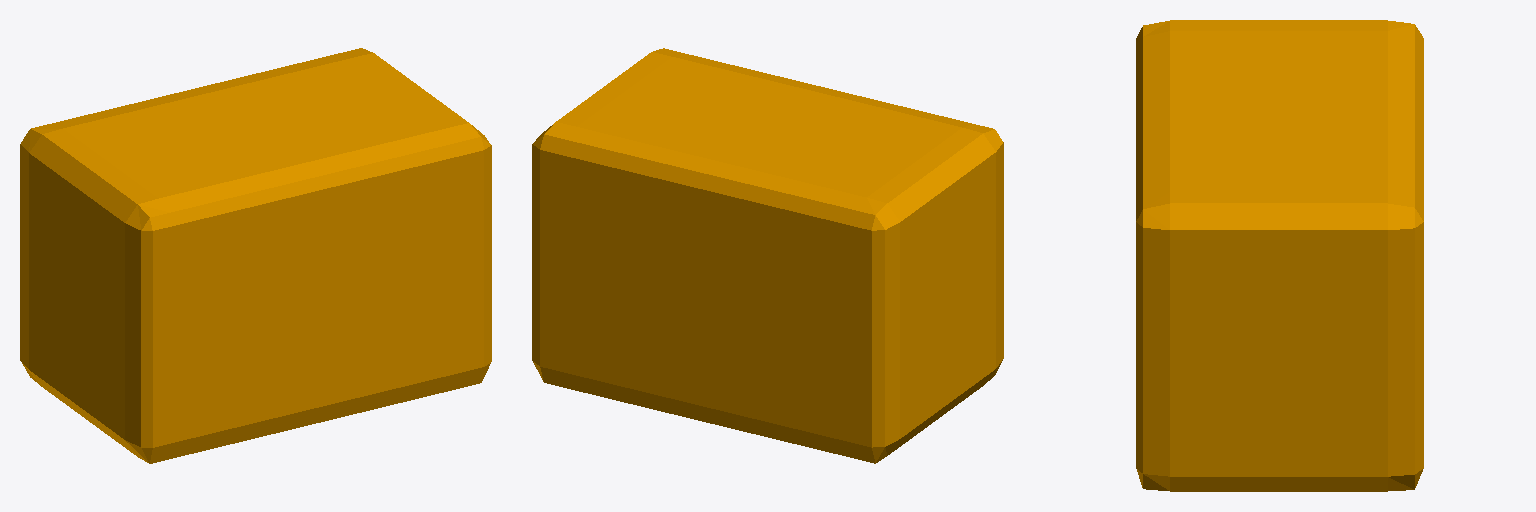
URDF robot description (cylinder_box_40):
<?xml version="1.0" encoding="utf-8"?>  <robot name="cylinder_box_40">   <link name="cylinder_box_40">     <visual>       <geometry>         <mesh filename="../meshes/box/box_40.stl" scale="1 1 1"/>       </geometry>     </visual>     <collision>       <geometry>         <mesh filename="../meshes/box/box_40.stl" scale="1 1 1"/>       </geometry>     </collision>     <inertial>        <origin         xyz="0 0 0"         rpy="0 0 0" />       <mass value="0.2644586331856935"/>       <origin rpy="0 0 0" xyz="0 0 0"/>       <inertia ixx="0.00013451942252191984" ixy="3.294717647509996e-09" ixz="-4.192904745136788e-08" iyy="0.00023675127493442483" iyz="-3.677139065508189e-08" izz="0.00022340349939447177"/>     </inertial>   </link>  </robot>

--- Facts derived from the render (not from the file) ---
The picture shows the robot from 3 angles, left to right: view 1: azimuth 30°, elevation 25°; view 2: azimuth 150°, elevation 25°; view 3: azimuth 270°, elevation 25°; orthographic projection.
Robot: cylinder_box_40 — 1 links, 0 joints (none); root link cylinder_box_40; default pose: all joints at 0.
Links seen in each view (by area): view 1: cylinder_box_40; view 2: cylinder_box_40; view 3: cylinder_box_40.
Link boxes in pixels (x1=…): cylinder_box_40: x1=20, y1=48, x2=491, y2=463; cylinder_box_40: x1=532, y1=48, x2=1003, y2=463; cylinder_box_40: x1=1136, y1=20, x2=1423, y2=491.
Bounding box of the posed robot: 0.0868 × 0.0529 × 0.0586 m (x, y, z).
1 mesh visuals loaded from 1 distinct referenced files (1 binary STL).